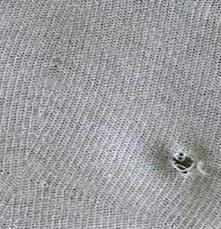hole: (168, 148, 199, 179)
